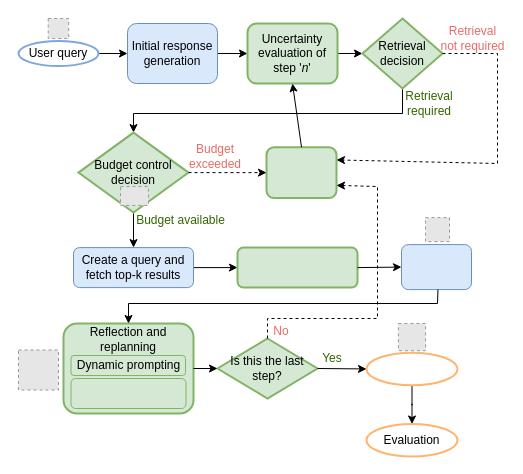
Image size: 523x474. Some labels were removed from this diagram. Grey dashed boxes stand in for pictures. The centre of each missing label's shape, as x and y in pixels:
Draft a revised response: point (436, 267)
Filter to get relevant results: point (297, 267)
Final response: point (411, 368)
Move to the next step in CoT: point (301, 172)
Retrieval and trajectory correction: point (128, 393)
